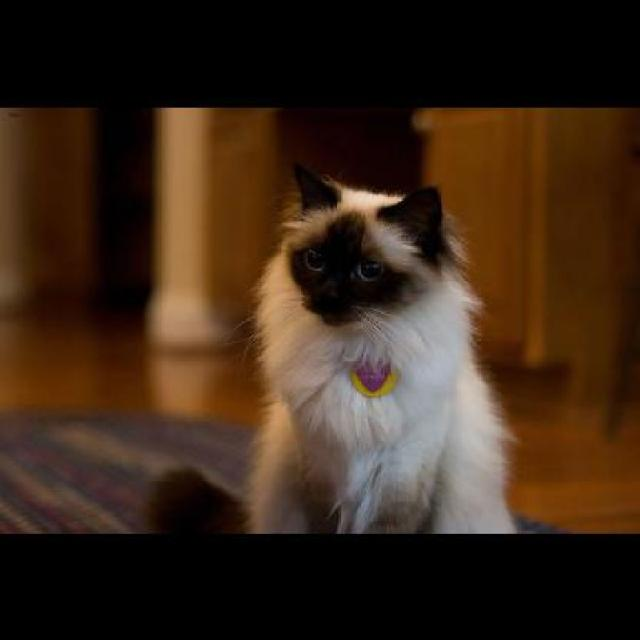unauthorized: (142, 160, 524, 535)
